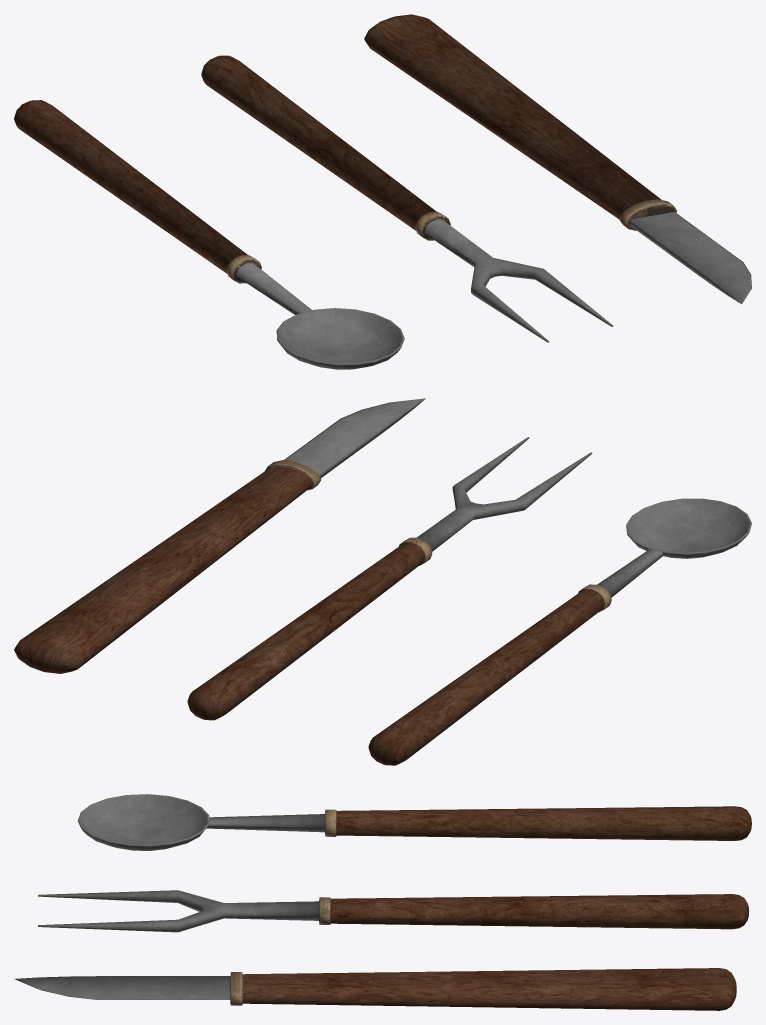
Rendered from cubiertos glb.draco.glb.
3 views of the same model, one above another, from view 1: azimuth 30°, elevation 25°; view 2: azimuth 150°, elevation 25°; view 3: azimuth 270°, elevation 25° (orthographic). The views are drawn at different scales.
Visible parts, largest first — view 1: Medieval_Cutlery; view 2: Medieval_Cutlery; view 3: Medieval_Cutlery.
Boxes of the visible parts, x1,y1,x2,y2 form: Medieval_Cutlery: (14,14,751,369); Medieval_Cutlery: (14,398,751,765); Medieval_Cutlery: (14,794,751,1010).
Size of the model in its own units: 0.2193 by 0.016 by 0.3254.
Materials: 1 (1 with a texture image).
